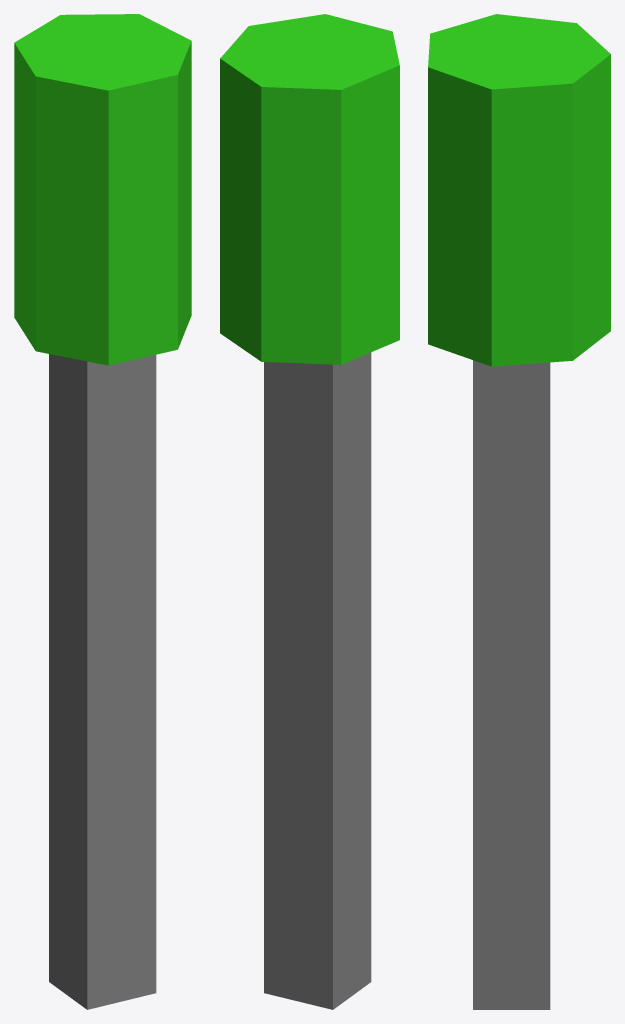
Rendered from lever_handle.fbx.
3 renders of one model, left to right at view 1: azimuth 30°, elevation 25°; view 2: azimuth 150°, elevation 25°; view 3: azimuth 270°, elevation 25°, orthographic.
Visible parts, largest first — view 1: pCube2; view 2: pCube2; view 3: pCube2.
Part boxes in pixels (bbox=[...]): pCube2: bbox=[14, 14, 191, 1009]; pCube2: bbox=[220, 14, 399, 1009]; pCube2: bbox=[428, 14, 610, 1009].
Size of the model in its own units: 0.4437 by 2.58 by 0.4541.
